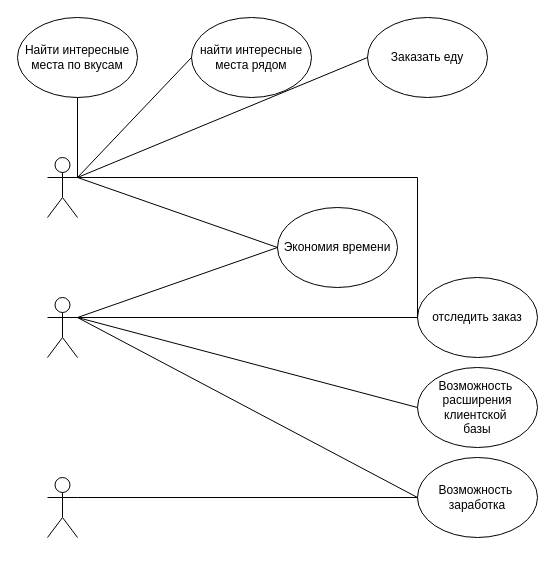
The diagram is 555 pixels wide and 576 high, and some of its shapes have lost their labels. The box of each missing label's shape, as (x1, y1, x2, y2) in pixels:
Курьер: (46, 476, 78, 538)
Пользователь: (46, 156, 78, 218)
Ресторан: (46, 296, 78, 358)
